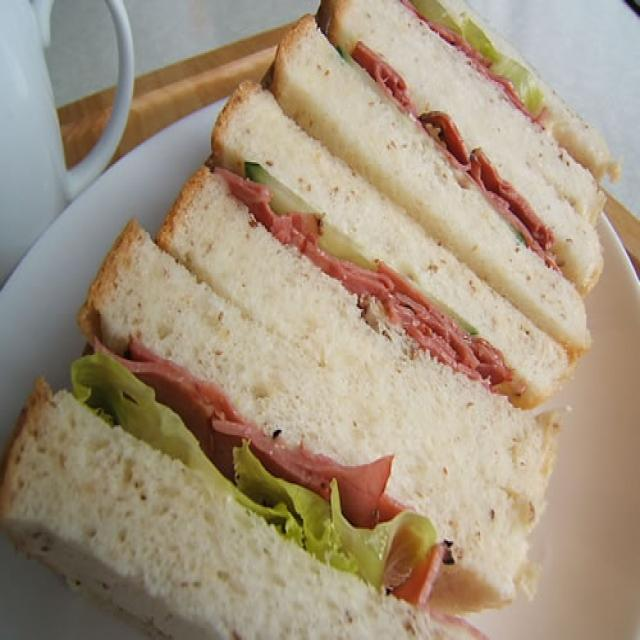三明治: (128, 0, 640, 640)
